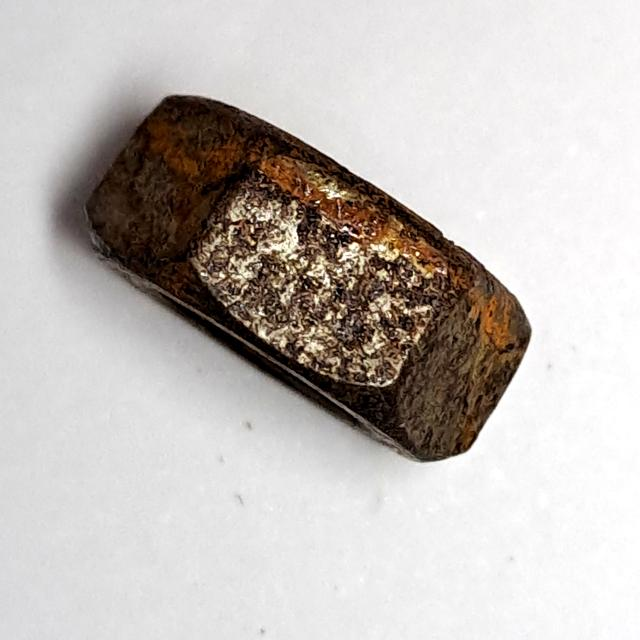Side_Rust: (77, 85, 546, 480)
